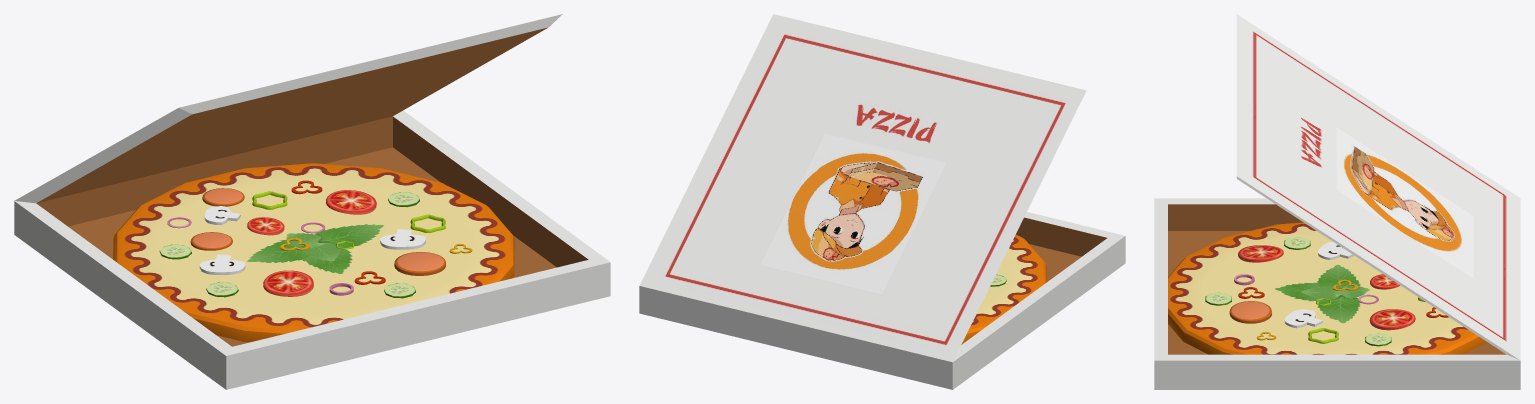
File: Pizza Box.fbx
The picture shows the model from 3 angles, left to right: view 1: azimuth 30°, elevation 25°; view 2: azimuth 150°, elevation 25°; view 3: azimuth 270°, elevation 25°; orthographic projection. The views are drawn at different scales.
Parts seen in each view (by area): view 1: Pizza_24, Pizza_25, Pizza_6, Pizza_7, Pizza_10, Pizza_18, Pizza_12, Pizza_11, Pizza_2, Pizza_17, Pizza_14; view 2: Pizza_24, Pizza_25; view 3: Pizza_24, Pizza_25, Pizza_7, Pizza_10, Pizza_6, Pizza_18, Pizza_12, Pizza_17.
Part boxes in pixels (x1,y1,x2,y2): Pizza_24: (14, 14, 610, 389); Pizza_25: (113, 163, 514, 342); Pizza_6: (263, 270, 313, 296); Pizza_7: (394, 252, 445, 275); Pizza_10: (326, 190, 376, 214); Pizza_18: (380, 229, 425, 249); Pizza_12: (199, 254, 245, 274); Pizza_11: (190, 232, 232, 250); Pizza_2: (202, 188, 244, 206); Pizza_17: (247, 217, 284, 235); Pizza_14: (204, 206, 240, 224); Pizza_24: (639, 14, 1125, 389); Pizza_25: (962, 234, 1046, 344); Pizza_24: (1154, 14, 1520, 389); Pizza_25: (1168, 222, 1487, 354); Pizza_7: (1229, 301, 1271, 323); Pizza_10: (1369, 309, 1415, 330); Pizza_6: (1238, 245, 1283, 262); Pizza_18: (1284, 309, 1322, 328); Pizza_12: (1318, 241, 1354, 259); Pizza_17: (1370, 274, 1399, 289).
Bounding box in the file's own units: 15.98 × 9.82 × 15.26.
8 materials, 8 textured.
